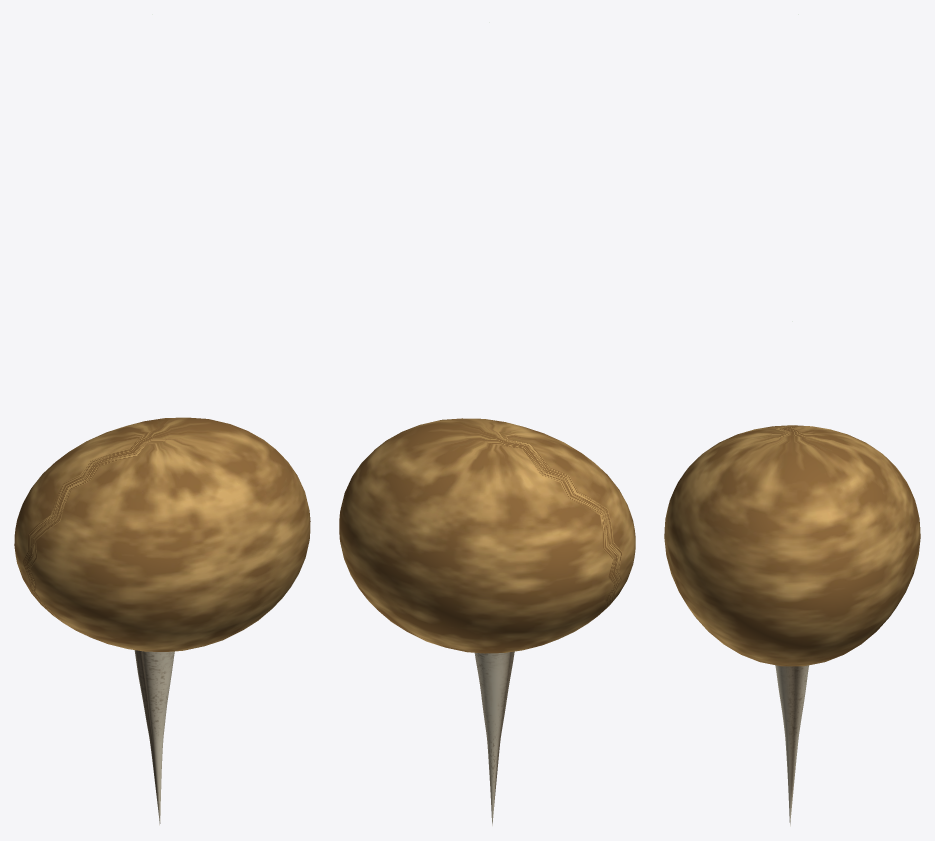
File: sugar_beet.glb
3 views of the same model, side by side, from view 1: azimuth 30°, elevation 25°; view 2: azimuth 150°, elevation 25°; view 3: azimuth 270°, elevation 25° (orthographic).
Parts seen in each view (by area): view 1: Seed_Pellet, Taproot_Main; view 2: Seed_Pellet, Taproot_Main; view 3: Seed_Pellet, Taproot_Main.
Part boxes in pixels (<box>): Seed_Pellet: <box>14,417,310,651</box>; Taproot_Main: <box>134,650,174,825</box>; Seed_Pellet: <box>339,418,635,653</box>; Taproot_Main: <box>474,651,514,825</box>; Seed_Pellet: <box>664,425,920,666</box>; Taproot_Main: <box>775,665,808,826</box>.
Size of the model in its own units: 0.1288 by 0.3733 by 0.1075.
Materials: 6 (6 with a texture image).
